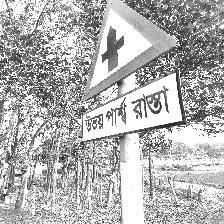Crossroad: (79, 0, 184, 144)
